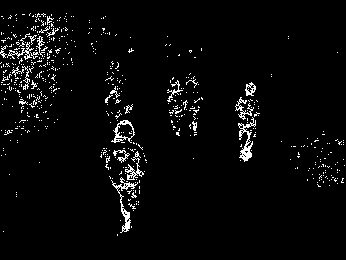person: (99, 119, 148, 236), (235, 81, 260, 162), (102, 60, 134, 120), (166, 76, 188, 136), (183, 72, 202, 137)
